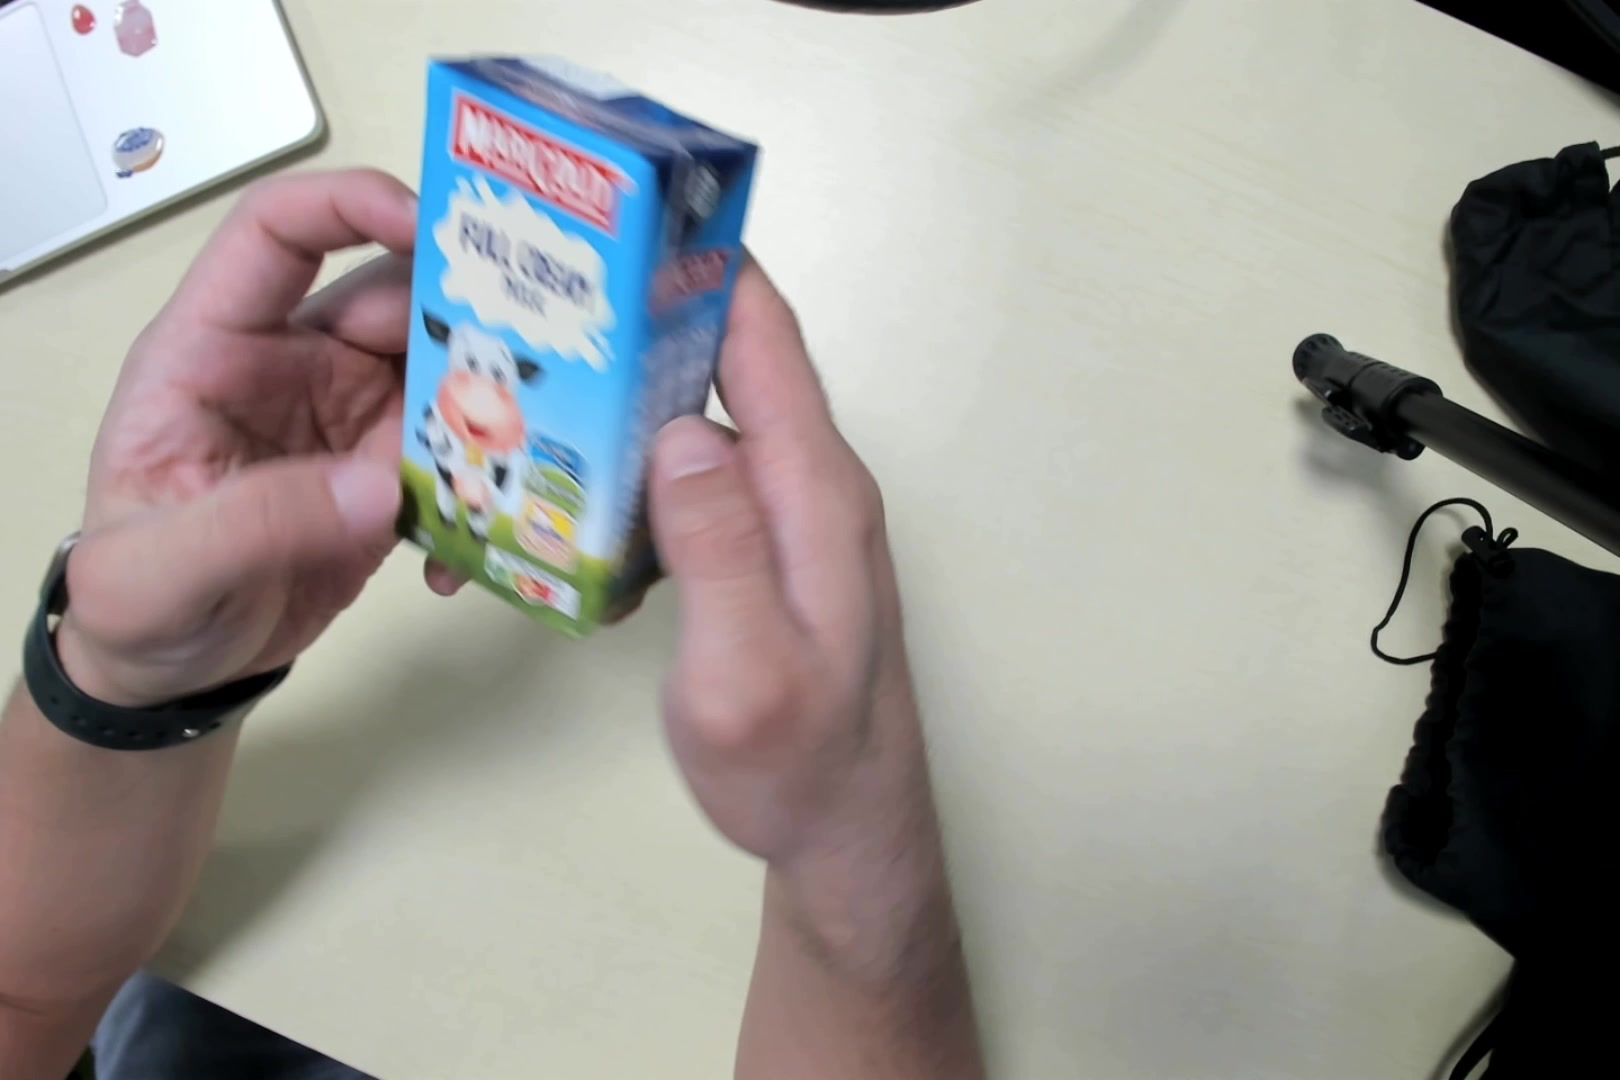Milk(Drink)_200-299g_Halal_NonHealthy: (391, 39, 755, 636)
